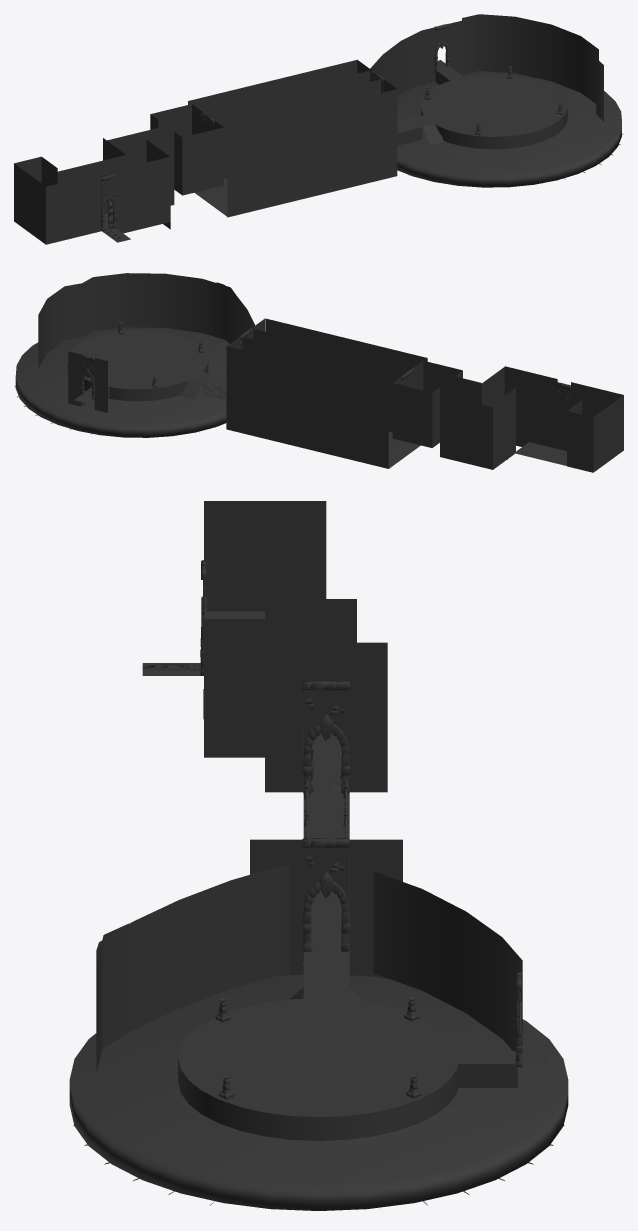
File: SecondRoom_Bridge_SecondBoss.FBX
3 renders of one model, top to bottom at view 1: azimuth 30°, elevation 25°; view 2: azimuth 150°, elevation 25°; view 3: azimuth 270°, elevation 25°, orthographic. The views are drawn at different scales.
Parts seen in each view (by area): view 1: SM_Wall_Tall511, SM_Ceiling_Round2, SM_Boss_Room_Floor1, SM_Env_Wall_Alcove_Round_01_Texture2, SM_Wall_Tall383, SM_Wall_Tall243, SM_Wall_Tall488, SM_Wall_Tall429, SM_Env_Wall_Alcove_Round_01_Texture1, SM_Wall_Tall347, SM_Wall_Tall444, SM_Wall_Tall357 (+18 smaller); view 2: SM_Wall_Tall488, SM_Ceiling_Round2, SM_Env_Wall_Alcove_Round_01_Texture3, SM_Boss_Room_Floor1, SM_Wall_Tall380, SM_Wall_Tall357, SM_Wall_Tall511, SM_Env_Wall_Alcove_Round_01_Texture2, SM_Wall_Tall409, SM_Wall_Tall347, SM_Wall_Tall386, SM_Wall_Tall581 (+18 smaller); view 3: SM_Ceiling_Round2, SM_Boss_Room_Floor1, SM_Env_Wall_Alcove_Round_01_Texture4, SM_Env_Wall_Alcove_Round_01_Texture1, SM_Wall_Tall377, SM_Wall_Tall347, SM_Wall_Tall386, SM_Wall_Tall519, SM_Wall_Tall352, SM_Wall_Tall431, SM_Wall_Tall415, SM_Floor_Ceiling804 (+9 smaller).
Part boxes in pixels (x1,y1,x2,y2): SM_Wall_Tall511: (227, 89, 397, 217); SM_Ceiling_Round2: (397, 71, 623, 187); SM_Boss_Room_Floor1: (420, 74, 567, 149); SM_Env_Wall_Alcove_Round_01_Texture2: (462, 14, 598, 103); SM_Wall_Tall383: (115, 156, 170, 233); SM_Wall_Tall243: (46, 173, 101, 244); SM_Wall_Tall488: (188, 59, 357, 179); SM_Wall_Tall429: (182, 127, 223, 195); SM_Env_Wall_Alcove_Round_01_Texture1: (370, 29, 431, 96); SM_Wall_Tall347: (14, 163, 45, 244); SM_Wall_Tall444: (214, 103, 283, 175); SM_Wall_Tall357: (57, 155, 126, 214); SM_Wall_Tall488: (226, 346, 388, 468); SM_Ceiling_Round2: (14, 327, 229, 437); SM_Env_Wall_Alcove_Round_01_Texture3: (82, 273, 235, 339); SM_Boss_Room_Floor1: (67, 330, 208, 401); SM_Wall_Tall380: (440, 394, 492, 469); SM_Wall_Tall357: (516, 387, 578, 450); SM_Wall_Tall511: (265, 318, 427, 432); SM_Env_Wall_Alcove_Round_01_Texture2: (38, 283, 81, 368); SM_Wall_Tall409: (392, 383, 432, 447); SM_Wall_Tall347: (593, 395, 623, 472); SM_Wall_Tall386: (493, 387, 515, 469); SM_Wall_Tall581: (567, 411, 593, 472); SM_Ceiling_Round2: (69, 974, 568, 1210); SM_Boss_Room_Floor1: (178, 998, 459, 1140); SM_Env_Wall_Alcove_Round_01_Texture4: (96, 865, 290, 1058); SM_Env_Wall_Alcove_Round_01_Texture1: (373, 872, 522, 1050); SM_Wall_Tall377: (204, 619, 295, 757); SM_Wall_Tall347: (204, 501, 326, 611); SM_Wall_Tall386: (265, 599, 356, 730); SM_Wall_Tall519: (349, 839, 402, 978); SM_Wall_Tall352: (265, 527, 326, 598); SM_Wall_Tall431: (349, 681, 387, 792); SM_Wall_Tall415: (265, 681, 302, 792); SM_Floor_Ceiling804: (303, 887, 349, 999).
Size of the model in its own units: 21303 by 8147 by 3198.
